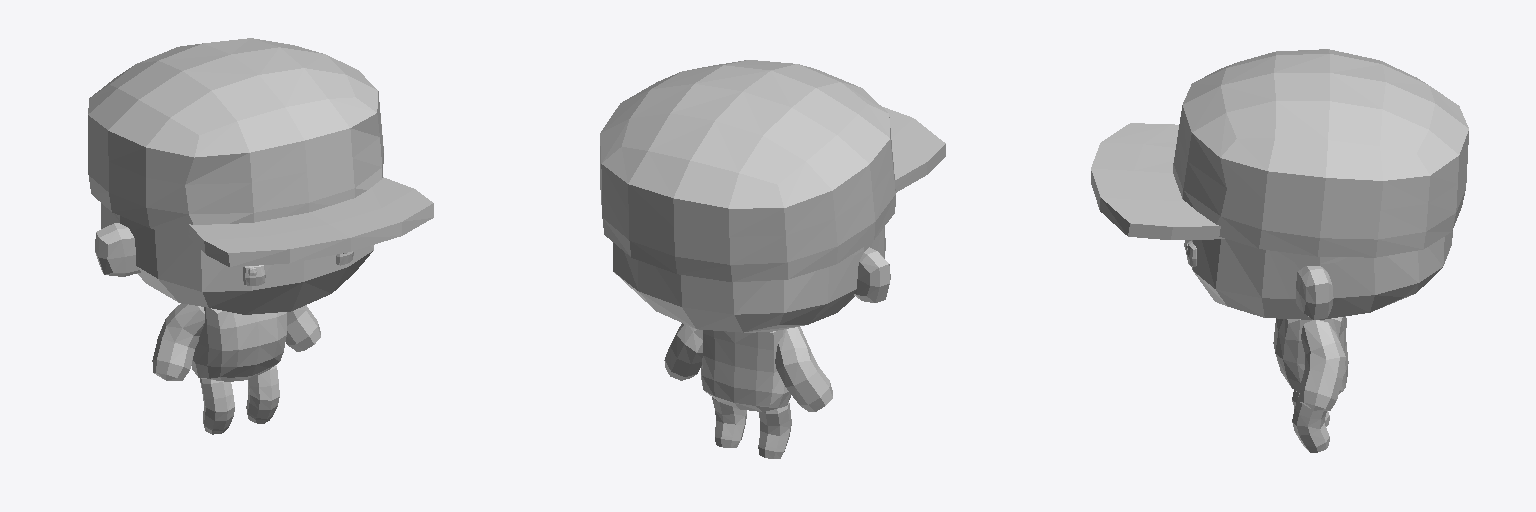
The model's file is idle_0045.obj.
The picture shows the model from 3 angles: view 1: azimuth 30°, elevation 25°; view 2: azimuth 150°, elevation 25°; view 3: azimuth 270°, elevation 25°; orthographic projection.
Visible parts, largest first — view 1: Object_41, Object_42, Object_36, Object_44, Object_38; view 2: Object_41, Object_36, Object_44, Object_42; view 3: Object_41, Object_36, Object_42, Object_44.
Part boxes in pixels (left/top/right/bottom): Object_41: left=88, top=38, right=383, bottom=234; Object_42: left=185, top=113, right=433, bottom=266; Object_36: left=95, top=203, right=373, bottom=314; Object_44: left=152, top=303, right=320, bottom=434; Object_38: left=243, top=251, right=353, bottom=285; Object_41: left=600, top=60, right=895, bottom=281; Object_36: left=613, top=227, right=890, bottom=332; Object_44: left=664, top=323, right=832, bottom=458; Object_42: left=883, top=107, right=945, bottom=192; Object_41: left=1183, top=49, right=1468, bottom=257; Object_36: left=1184, top=231, right=1452, bottom=319; Object_42: left=1091, top=105, right=1226, bottom=239; Object_44: left=1273, top=316, right=1348, bottom=452.
Bounding box in the file's own units: 0.9691 × 1.21 × 1.14.